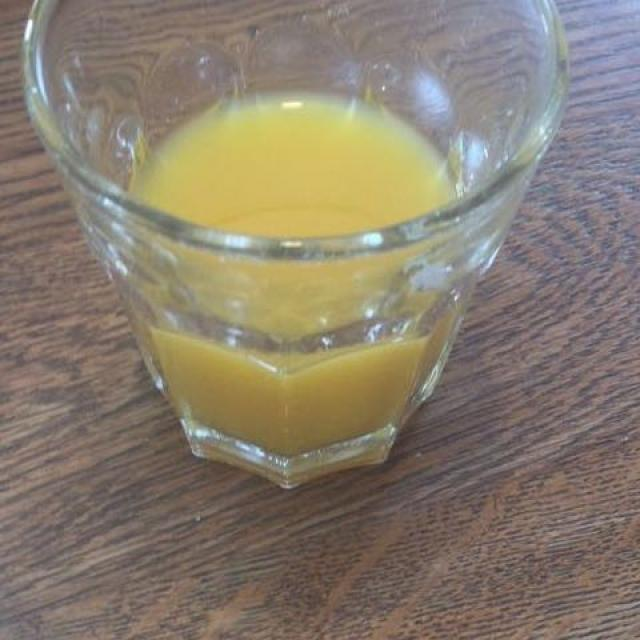juice: (122, 78, 474, 478)
